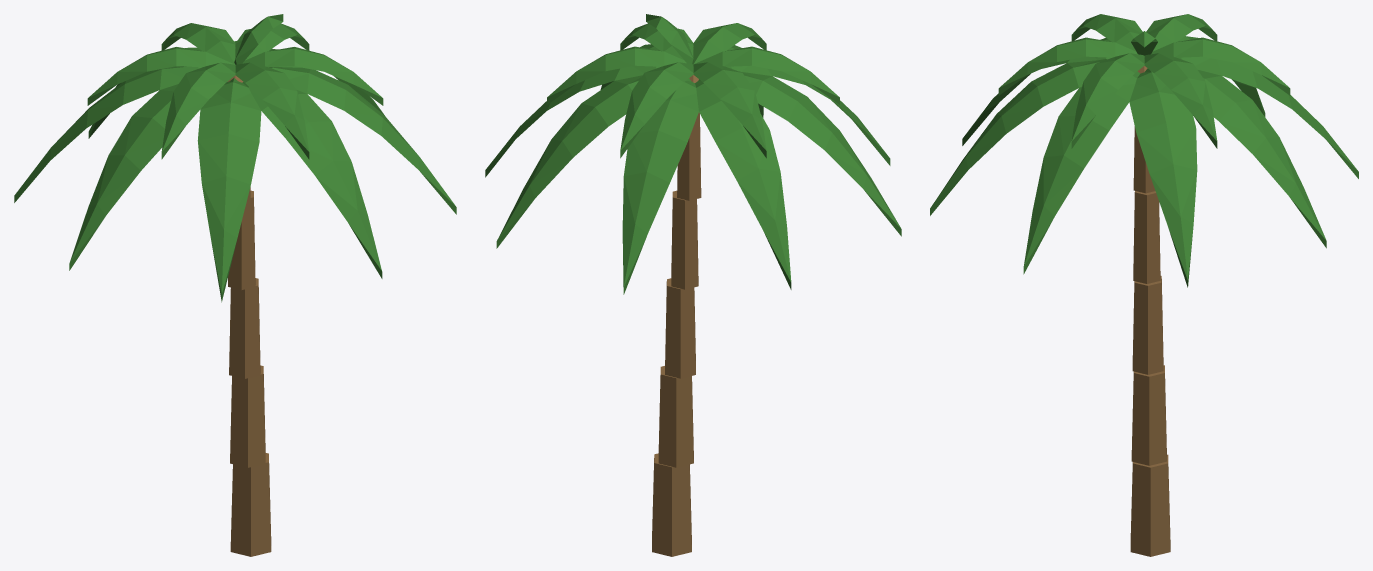
The model's file is palm_tree_b.fbx.
3 renders of one model, left to right at view 1: azimuth 30°, elevation 25°; view 2: azimuth 150°, elevation 25°; view 3: azimuth 270°, elevation 25°, orthographic.
Parts seen in each view (by area): view 1: palm_tree_b; view 2: palm_tree_b; view 3: palm_tree_b.
Part boxes in pixels (x1,y1,x2,y2): palm_tree_b: (14, 14, 456, 556); palm_tree_b: (485, 14, 901, 556); palm_tree_b: (930, 14, 1358, 556).
Size of the model in its own units: 7.06 by 9.49 by 7.06.
1 material, 1 textured.
